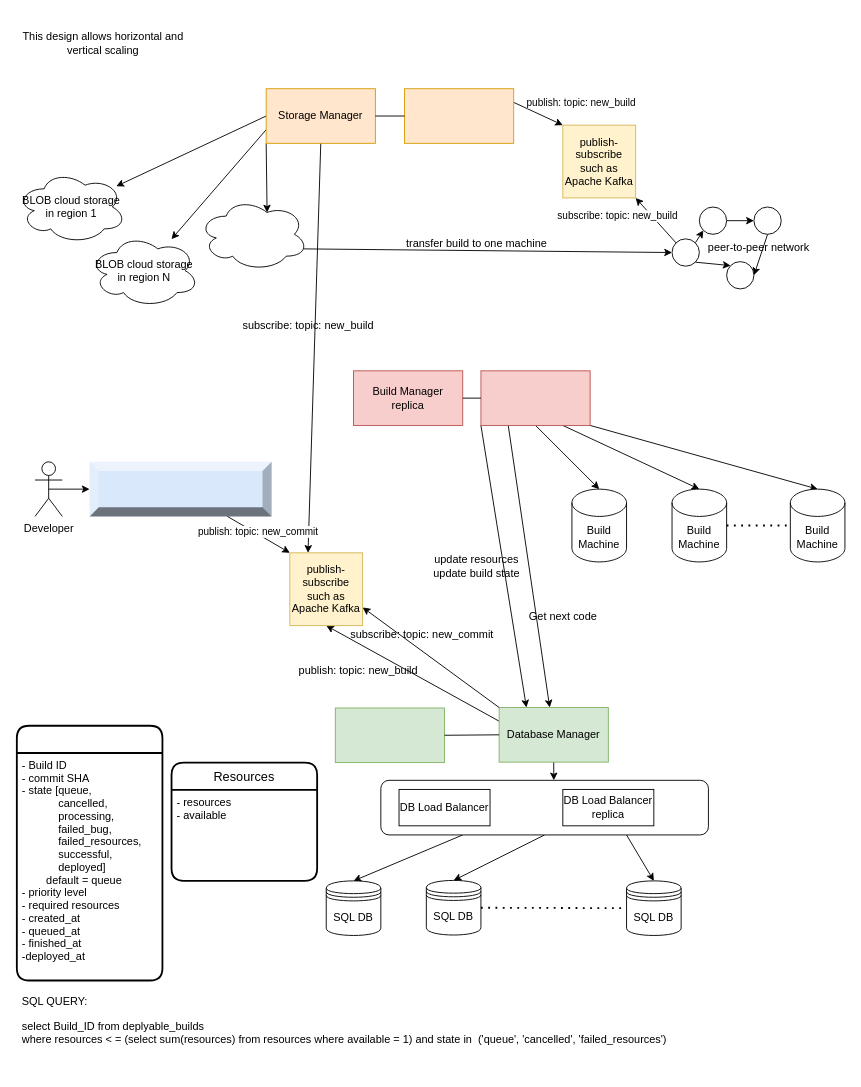
This 861x1087 diagram has some shape labels left out. The box of each missing label's shape, as (x1, y1, x2, y2) in pixels:
BLOB cloud storage in region 2: (198, 197, 308, 271)
Build Manager: (480, 370, 590, 425)
Database manager replica: (334, 707, 445, 763)
Deployable Build: (15, 724, 163, 981)
push to master uses github actions: (89, 461, 272, 516)
Storage Manager replica/backup: (404, 88, 514, 143)
